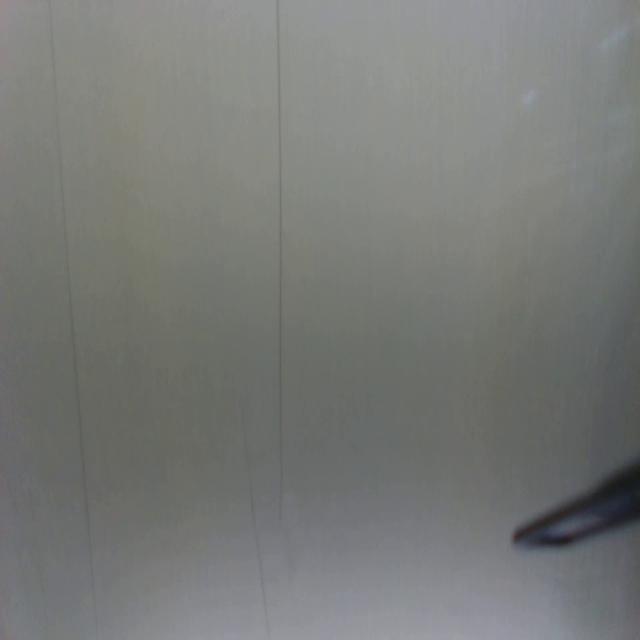crease: (49, 0, 100, 640), (245, 466, 270, 640), (276, 0, 284, 523)
